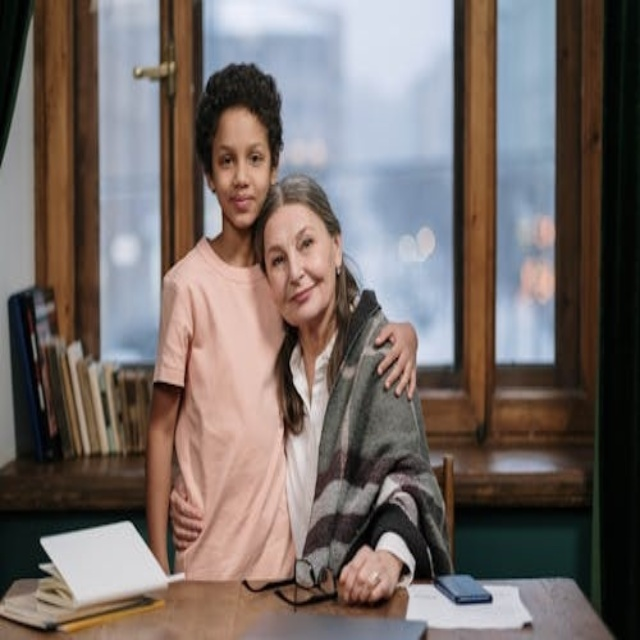Sin_gafas: (265, 219, 316, 273), (206, 140, 264, 175)
Sin_guantes: (330, 532, 402, 607), (170, 483, 203, 555)
Sin_mascara: (280, 277, 328, 309), (224, 188, 257, 211)
